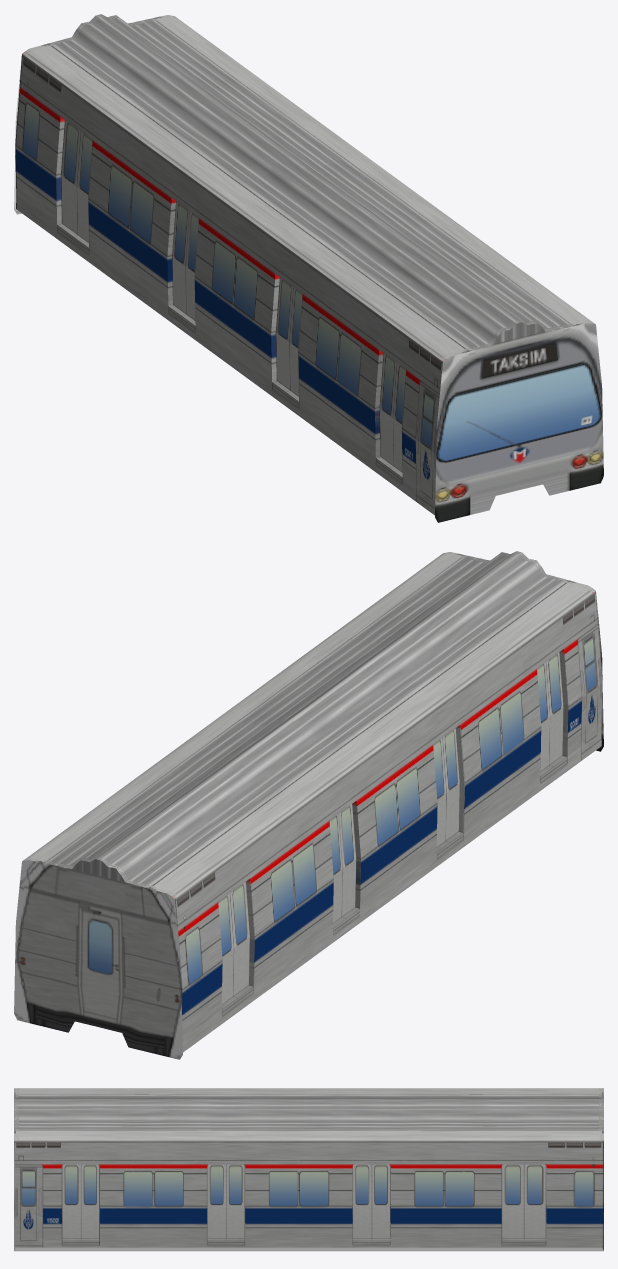
Rendered from Subway Car All Faces.fbx.
3 views of the same model, one above another, from view 1: azimuth 30°, elevation 25°; view 2: azimuth 150°, elevation 25°; view 3: azimuth 270°, elevation 25° (orthographic). The views are drawn at different scales.
Parts seen in each view (by area): view 1: SubwayCarMiddle, SubwayCarSideFront1; view 2: SubwayCarMiddle, SubwayCarSideFront1; view 3: SubwayCarSideFront, SubwayCarMiddle.
Part boxes in pixels (<box>): SubwayCarMiddle: <box>14,14,603,522</box>; SubwayCarSideFront1: <box>15,54,442,515</box>; SubwayCarMiddle: <box>14,551,603,1059</box>; SubwayCarSideFront1: <box>175,591,602,1052</box>; SubwayCarSideFront: <box>14,1140,603,1247</box>; SubwayCarMiddle: <box>14,1088,603,1251</box>.
Bounding box in the file's own units: 2.73 × 2.78 × 11.77.
Materials: 2 (1 with a texture image).
